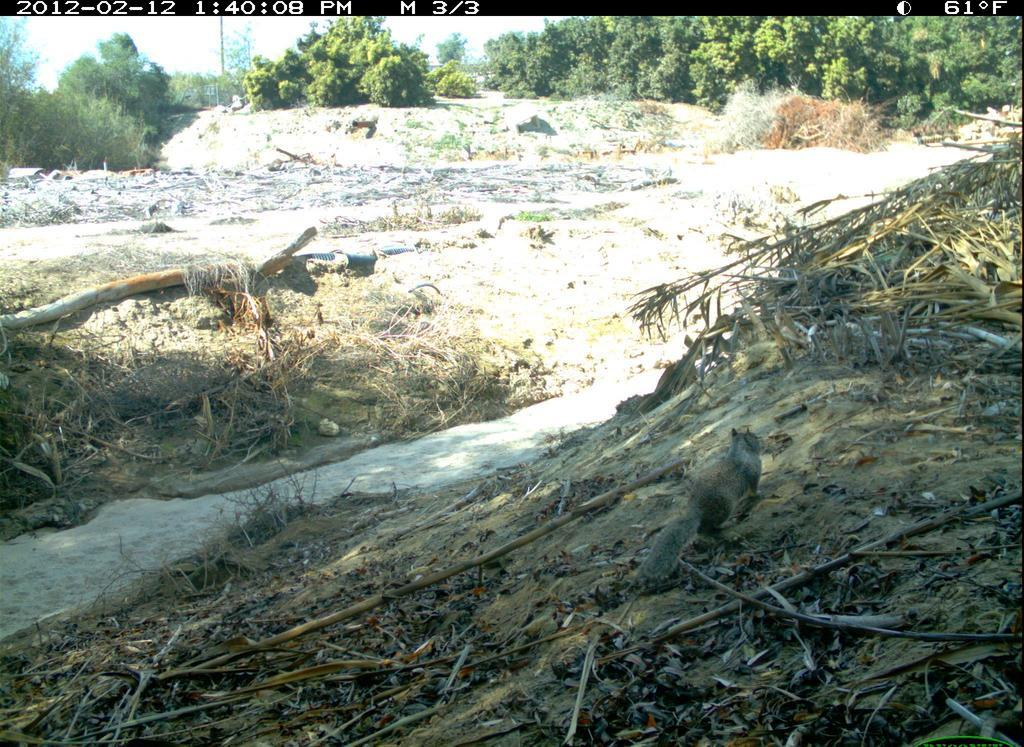squirrel: (633, 414, 786, 602)
